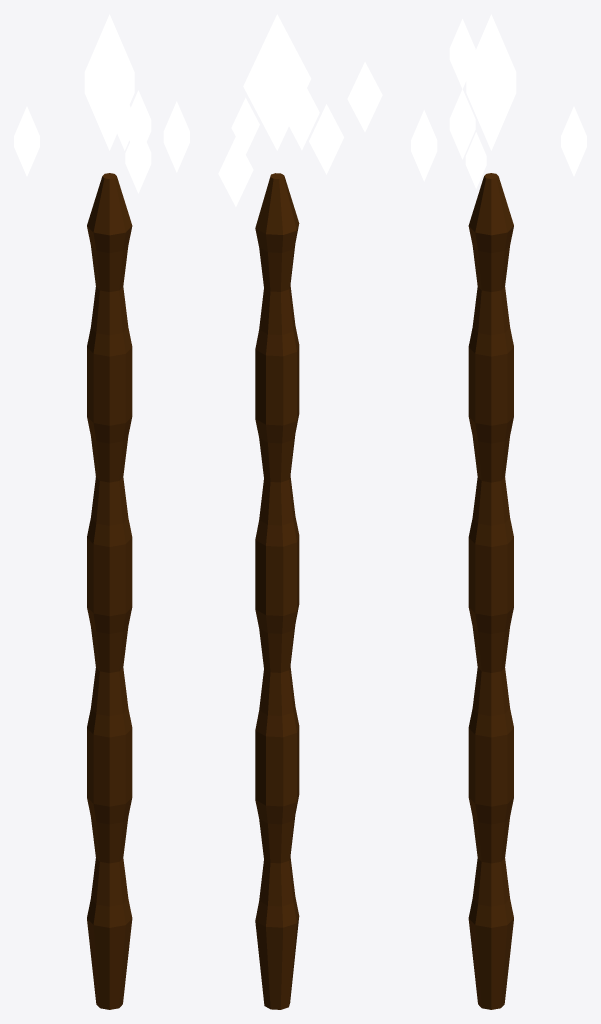
File: Staff.fbx
3 views of the same model, side by side, from view 1: azimuth 90°, elevation 25°; view 2: azimuth 150°, elevation 25°; view 3: azimuth 270°, elevation 25° (orthographic).
Visible parts, largest first — view 1: Staff; view 2: Staff; view 3: Staff.
Part boxes in pixels (left/top/right/bottom): Staff: left=14, top=14, right=189, bottom=1009; Staff: left=218, top=14, right=382, bottom=1009; Staff: left=411, top=14, right=586, bottom=1009.
Bounding box in the file's own units: 28.42 × 203 × 32.6.
